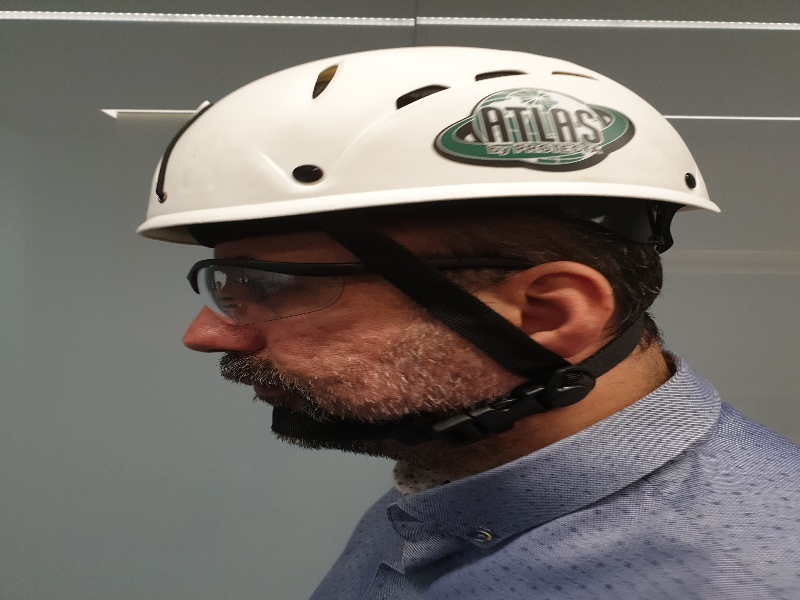Baret: (140, 45, 722, 231)
Gozluk: (187, 255, 530, 324)
